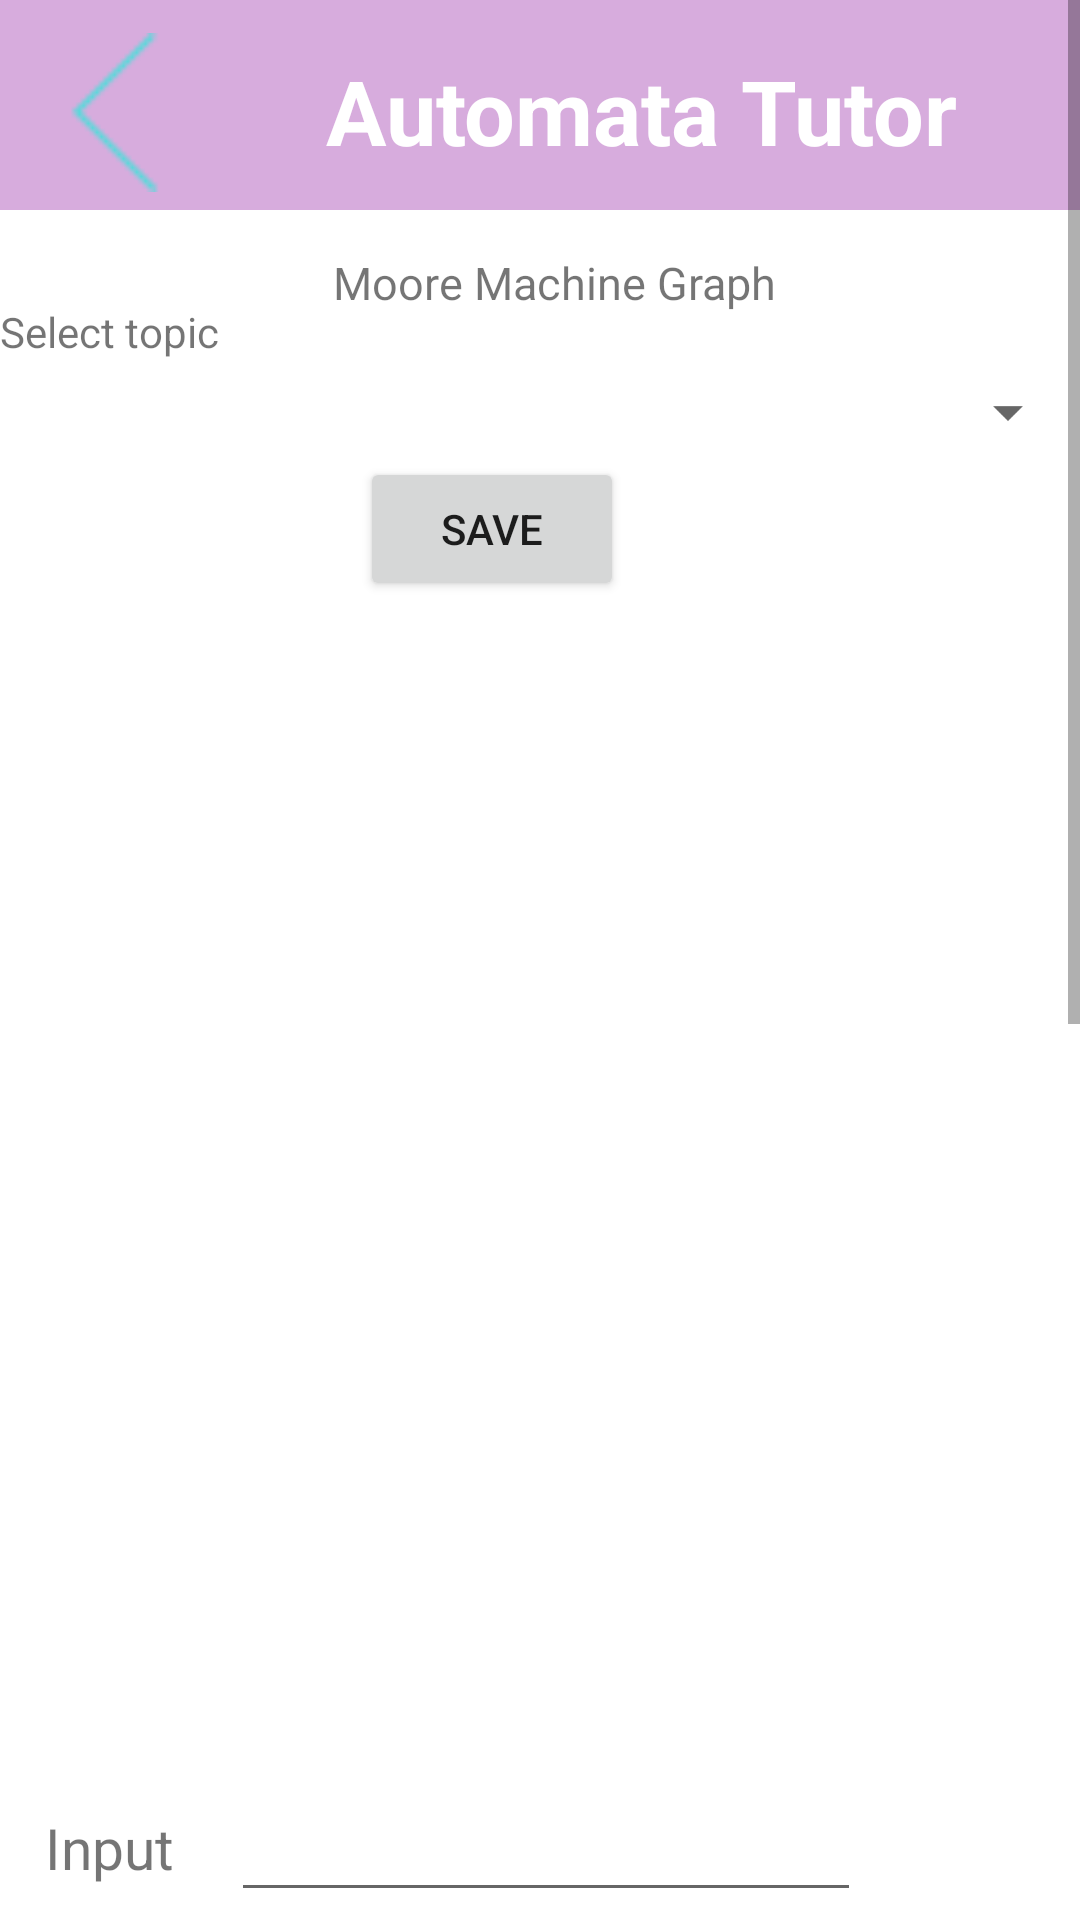

Where to tap for icons on this 1080w x 1920h app screen, as [x,y]:
backiconimg: [115,112]
